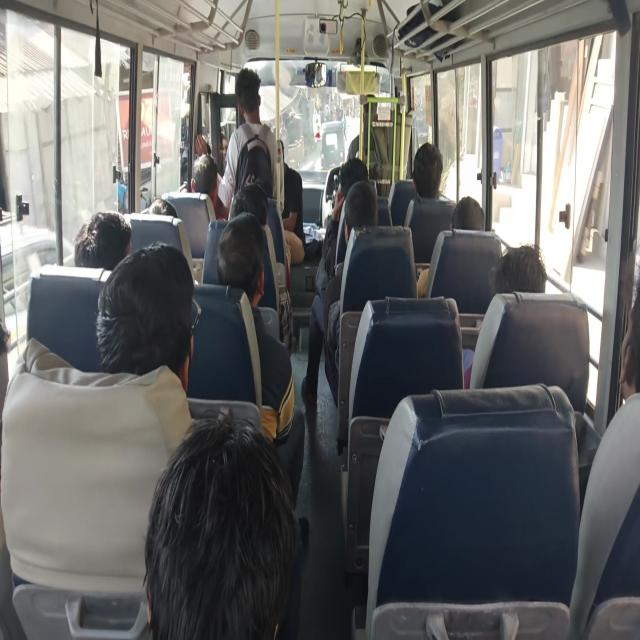person: (178, 408, 326, 631), (115, 238, 199, 385), (597, 271, 640, 495), (492, 232, 568, 337), (225, 218, 268, 280), (74, 207, 124, 260), (221, 179, 269, 232), (457, 192, 495, 242), (339, 156, 374, 210), (348, 177, 381, 234), (236, 70, 263, 132), (190, 150, 222, 201), (407, 157, 443, 201), (152, 189, 182, 238), (246, 177, 271, 206)
